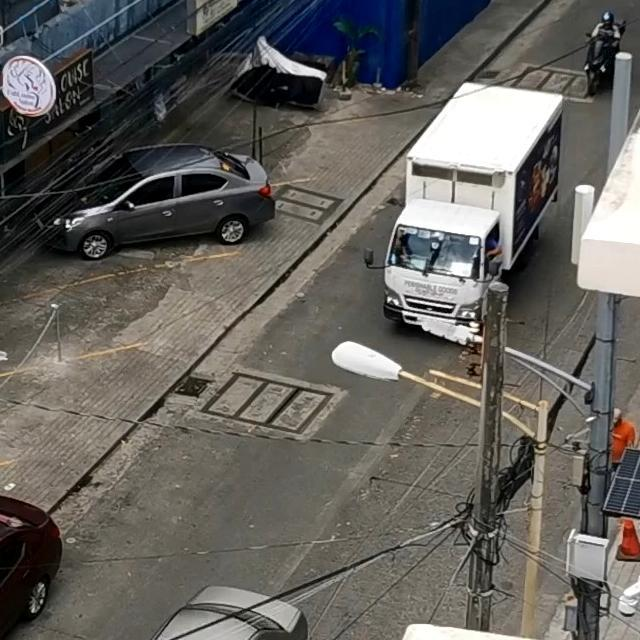Motorcycle: (564, 2, 634, 106)
